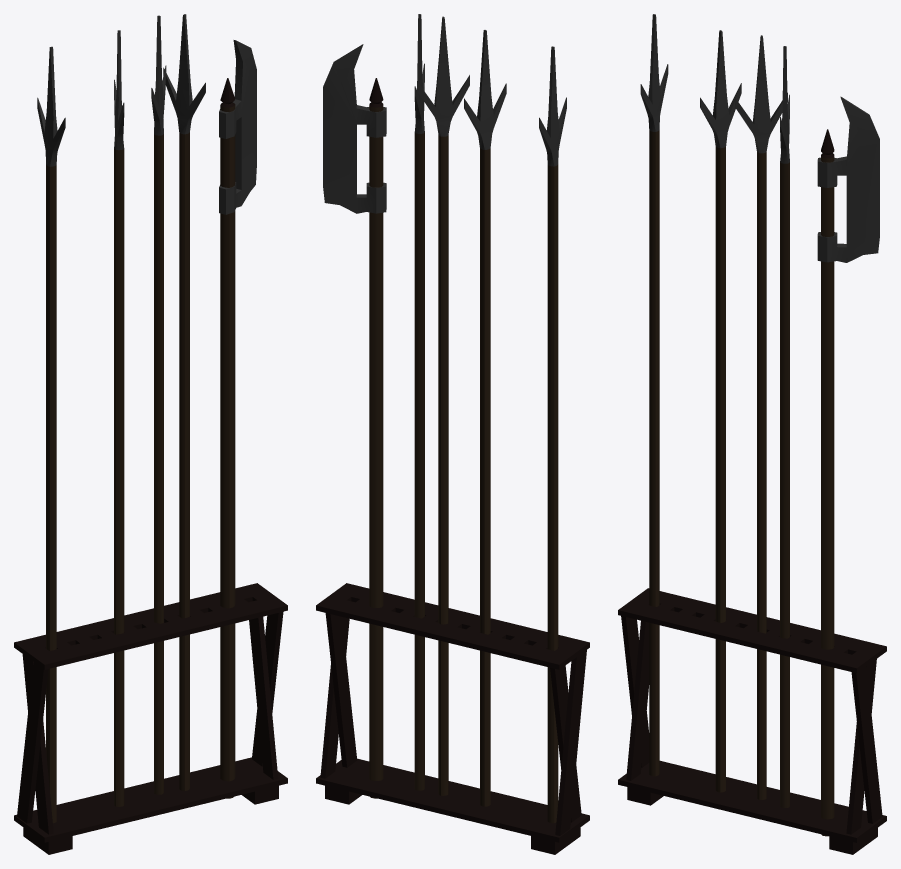
File: SD2wr_rack_axes_drf.fbx
3 views of the same model, side by side, from view 1: azimuth 30°, elevation 25°; view 2: azimuth 150°, elevation 25°; view 3: azimuth 330°, elevation 25° (orthographic).
Parts seen in each view (by area): view 1: SD2wr_rack_axes_drf; view 2: SD2wr_rack_axes_drf; view 3: SD2wr_rack_axes_drf.
Boxes of the visible parts, x1,y1,x2,y2 form: SD2wr_rack_axes_drf: (14, 14, 287, 854); SD2wr_rack_axes_drf: (316, 14, 589, 854); SD2wr_rack_axes_drf: (618, 14, 886, 854).
Bounding box in the file's own units: 79.28 × 17.26 × 249.
